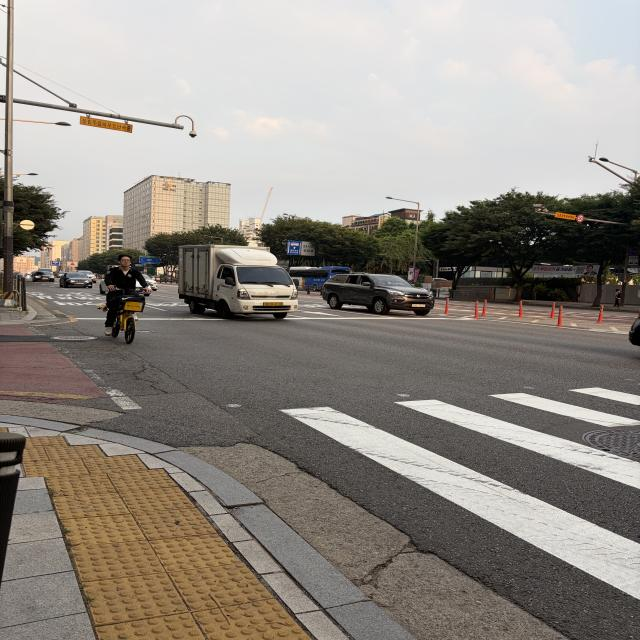bicycle: (93, 249, 156, 362)
car: (161, 233, 308, 329), (312, 260, 448, 325)
